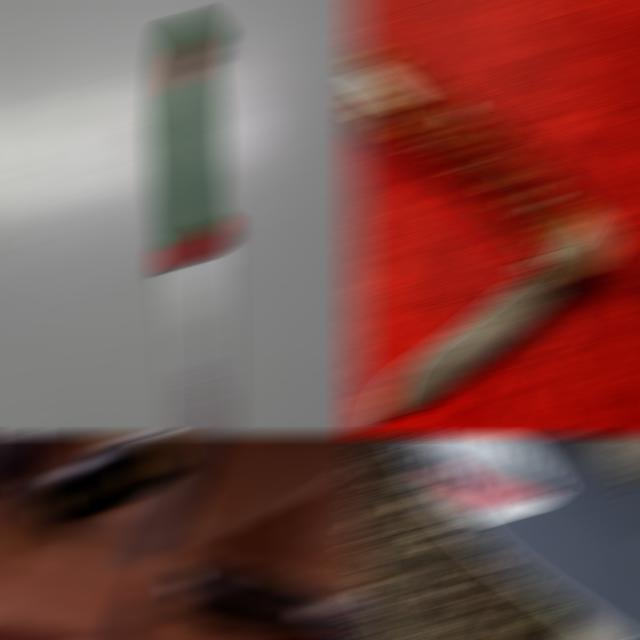Knife: (23, 437, 366, 541), (157, 11, 229, 433), (169, 566, 366, 638)
